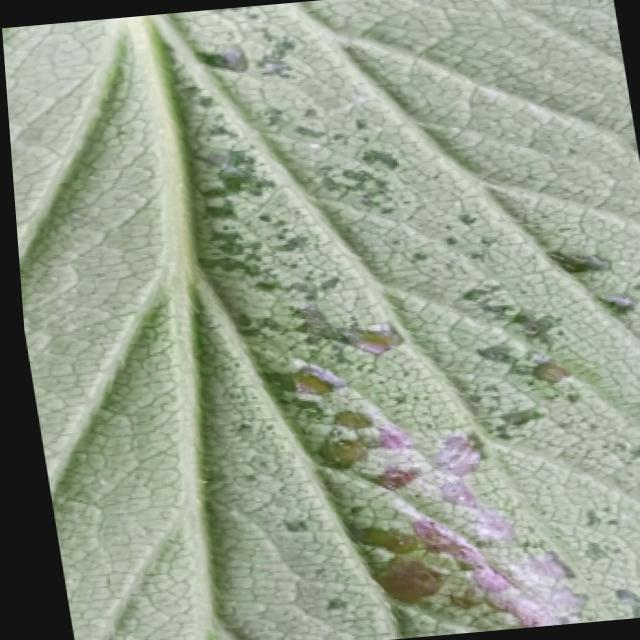Angular Leafspot: (153, 0, 640, 640)
